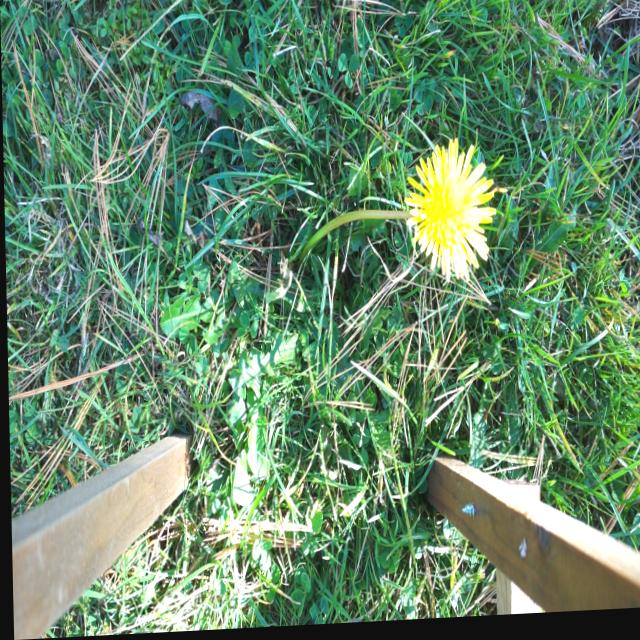base: (289, 248, 307, 281)
